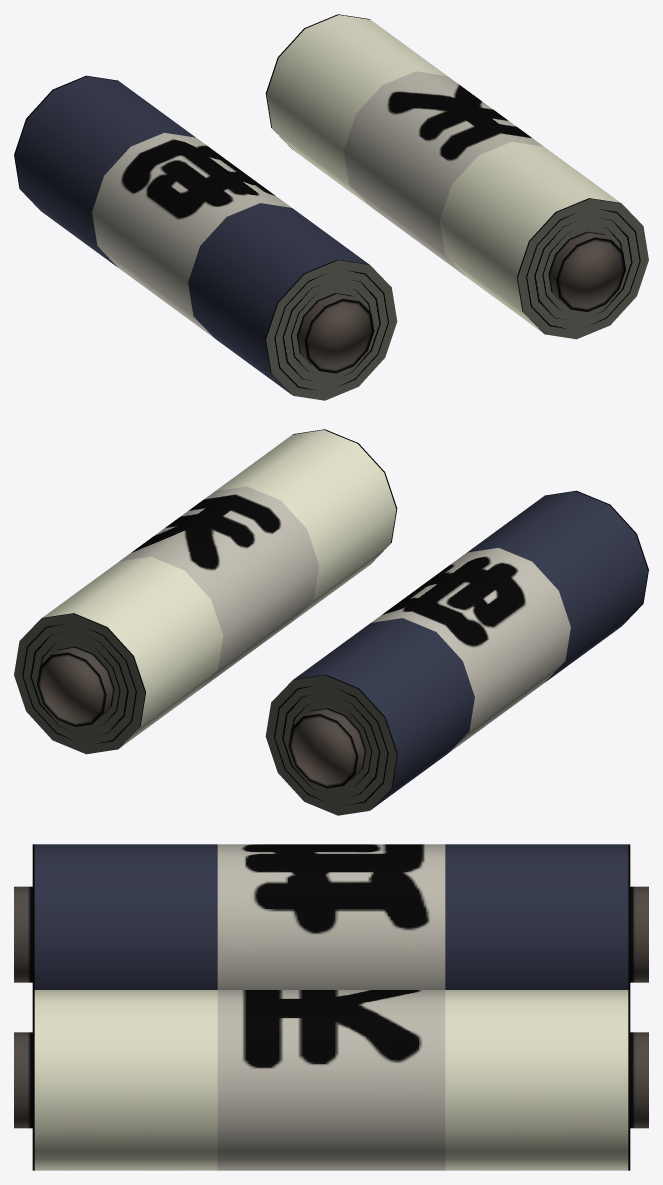
File: pergaminhos.glb
The picture shows the model from 3 angles, top to bottom: view 1: azimuth 30°, elevation 25°; view 2: azimuth 150°, elevation 25°; view 3: azimuth 270°, elevation 25°; orthographic projection. The views are drawn at different scales.
Visible parts, largest first — view 1: Pergamino01, Pergamino02; view 2: Pergamino01, Pergamino02; view 3: Pergamino01, Pergamino02.
Part boxes in pixels (x1,y1,x2,y2): Pergamino01: [265, 14, 648, 339]; Pergamino02: [14, 75, 397, 400]; Pergamino01: [14, 429, 397, 754]; Pergamino02: [265, 490, 648, 815]; Pergamino01: [14, 990, 648, 1170]; Pergamino02: [14, 844, 648, 989].
Bounding box in the file's own units: 20.34 × 6.97 × 24.63.
2 materials, 2 textured.
